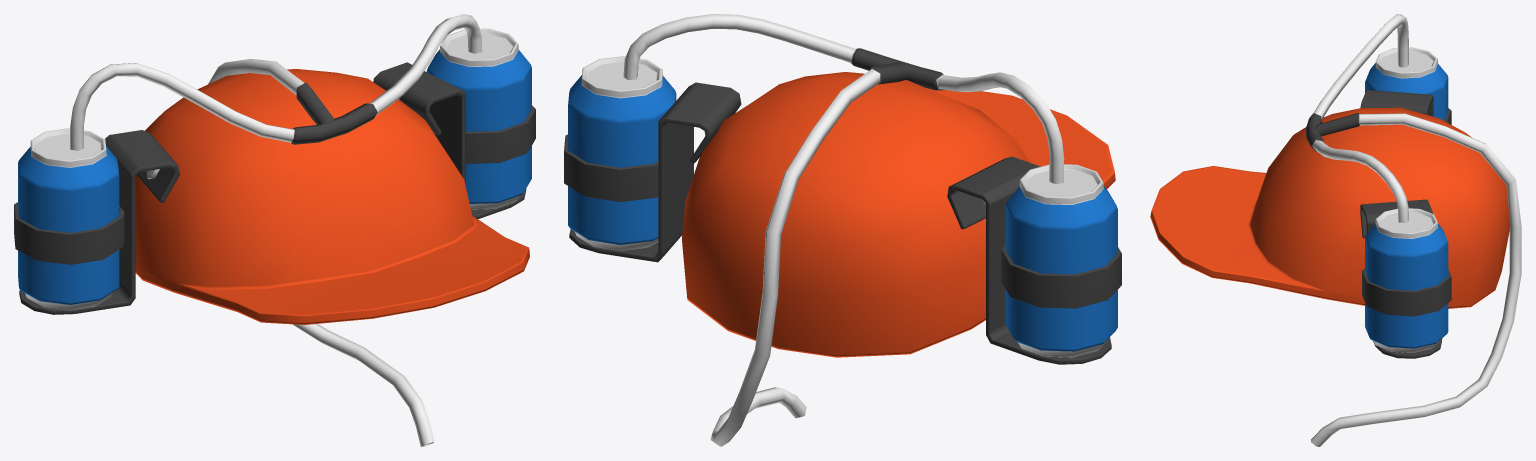
File: Hat_070.glb
The picture shows the model from 3 angles, left to right: view 1: azimuth 30°, elevation 25°; view 2: azimuth 150°, elevation 25°; view 3: azimuth 270°, elevation 25°; orthographic projection. The views are drawn at different scales.
Visible parts, largest first — view 1: Hat_070; view 2: Hat_070; view 3: Hat_070.
Boxes of the visible parts, x1,y1,x2,y2 form: Hat_070: (14, 14, 535, 446); Hat_070: (564, 14, 1121, 446); Hat_070: (1150, 14, 1521, 446).
Bounding box in the file's own units: 0.812 × 0.6295 × 0.6434.
Materials: 1 (1 with a texture image).
